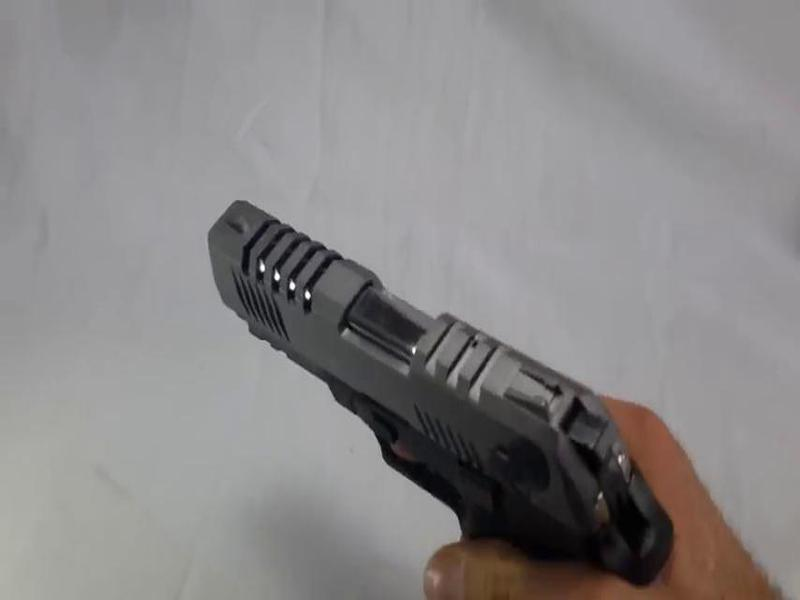Pistola: (195, 168, 702, 590)
